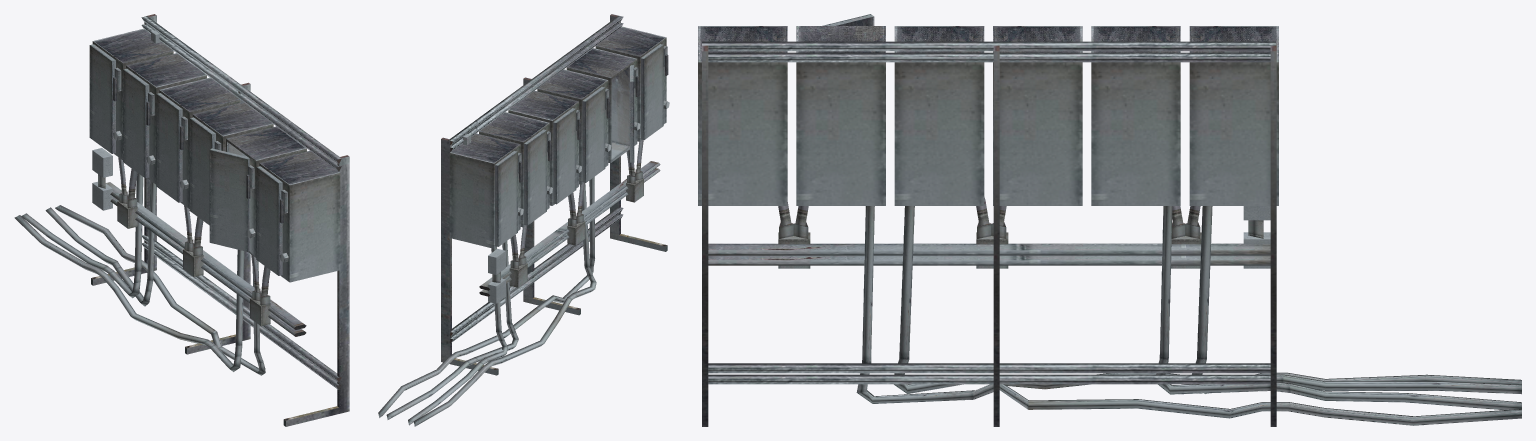
File: Air_machine_roof.fbx
3 renders of one model, left to right at view 1: azimuth 30°, elevation 25°; view 2: azimuth 150°, elevation 25°; view 3: azimuth 270°, elevation 25°, orthographic. The views are drawn at different scales.
Parts seen in each view (by area): view 1: Air_machine_roof; view 2: Air_machine_roof; view 3: Air_machine_roof.
Part boxes in pixels (<box>): Air_machine_roof: <box>14,14,349,426</box>; Air_machine_roof: <box>378,14,669,426</box>; Air_machine_roof: <box>698,14,1521,426</box>.
Bounding box in the file's own units: 108 × 318 × 632.
